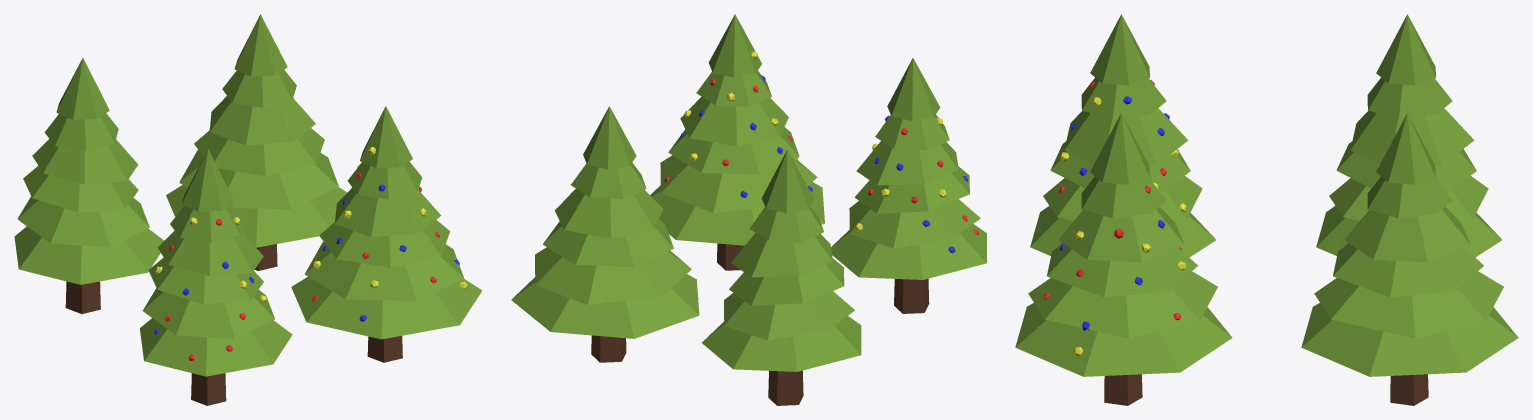
Rendered from Tree.fbx.
3 views of the same model, side by side, from view 1: azimuth 30°, elevation 25°; view 2: azimuth 150°, elevation 25°; view 3: azimuth 270°, elevation 25° (orthographic). The views are drawn at different scales.
Parts seen in each view (by area): view 1: Icosphere.005, Icosphere.001, Cone.003, Cone.002, Cylinder.001, Cylinder.004, Cylinder, Cylinder.003; view 2: Cone.002, Icosphere.001, Cone.003, Icosphere.005, Cylinder.004, Cylinder.001, Cylinder.003, Cylinder; view 3: Icosphere.005, Cone.002, Cone.003, Icosphere.001, Cylinder.003, Cylinder.
Part boxes in pixels (x1,y1,x2,y2): Icosphere.005: (291,106,482,339); Icosphere.001: (139,149,292,376); Cone.003: (14,58,164,284); Cone.002: (166,14,347,247); Cylinder.001: (191,373,226,405); Cylinder.004: (65,281,100,313); Cylinder: (367,336,402,362); Cylinder.003: (255,244,277,270); Cone.002: (511,106,699,338); Icosphere.001: (831,58,986,279); Cone.003: (702,150,861,371); Icosphere.005: (650,14,824,245); Cylinder.004: (768,370,803,405); Cylinder.001: (894,278,929,313); Cylinder.003: (591,335,626,362); Cylinder: (717,243,744,270); Icosphere.005: (1015,113,1232,376); Cone.002: (1301,113,1518,376); Cone.003: (1316,14,1501,257); Icosphere.001: (1030,14,1215,257); Cylinder.003: (1390,374,1428,405); Cylinder: (1104,374,1142,405).
Bounding box in the file's own units: 1535 × 1120 × 1796.
